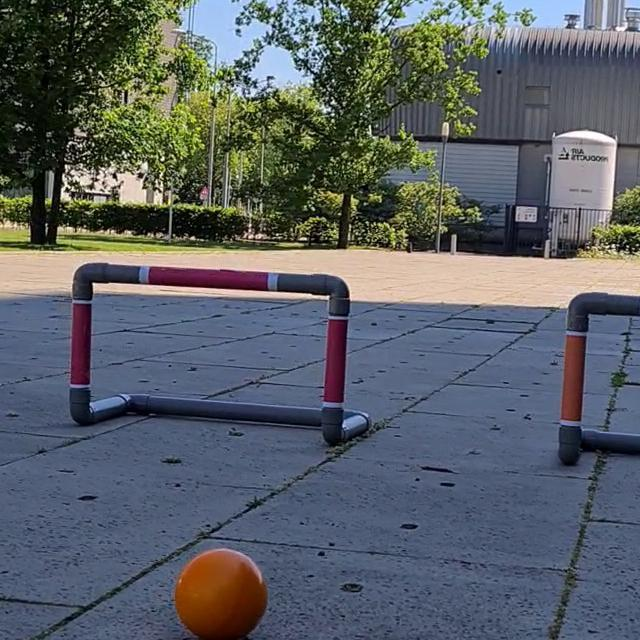ball: (170, 545, 272, 640)
